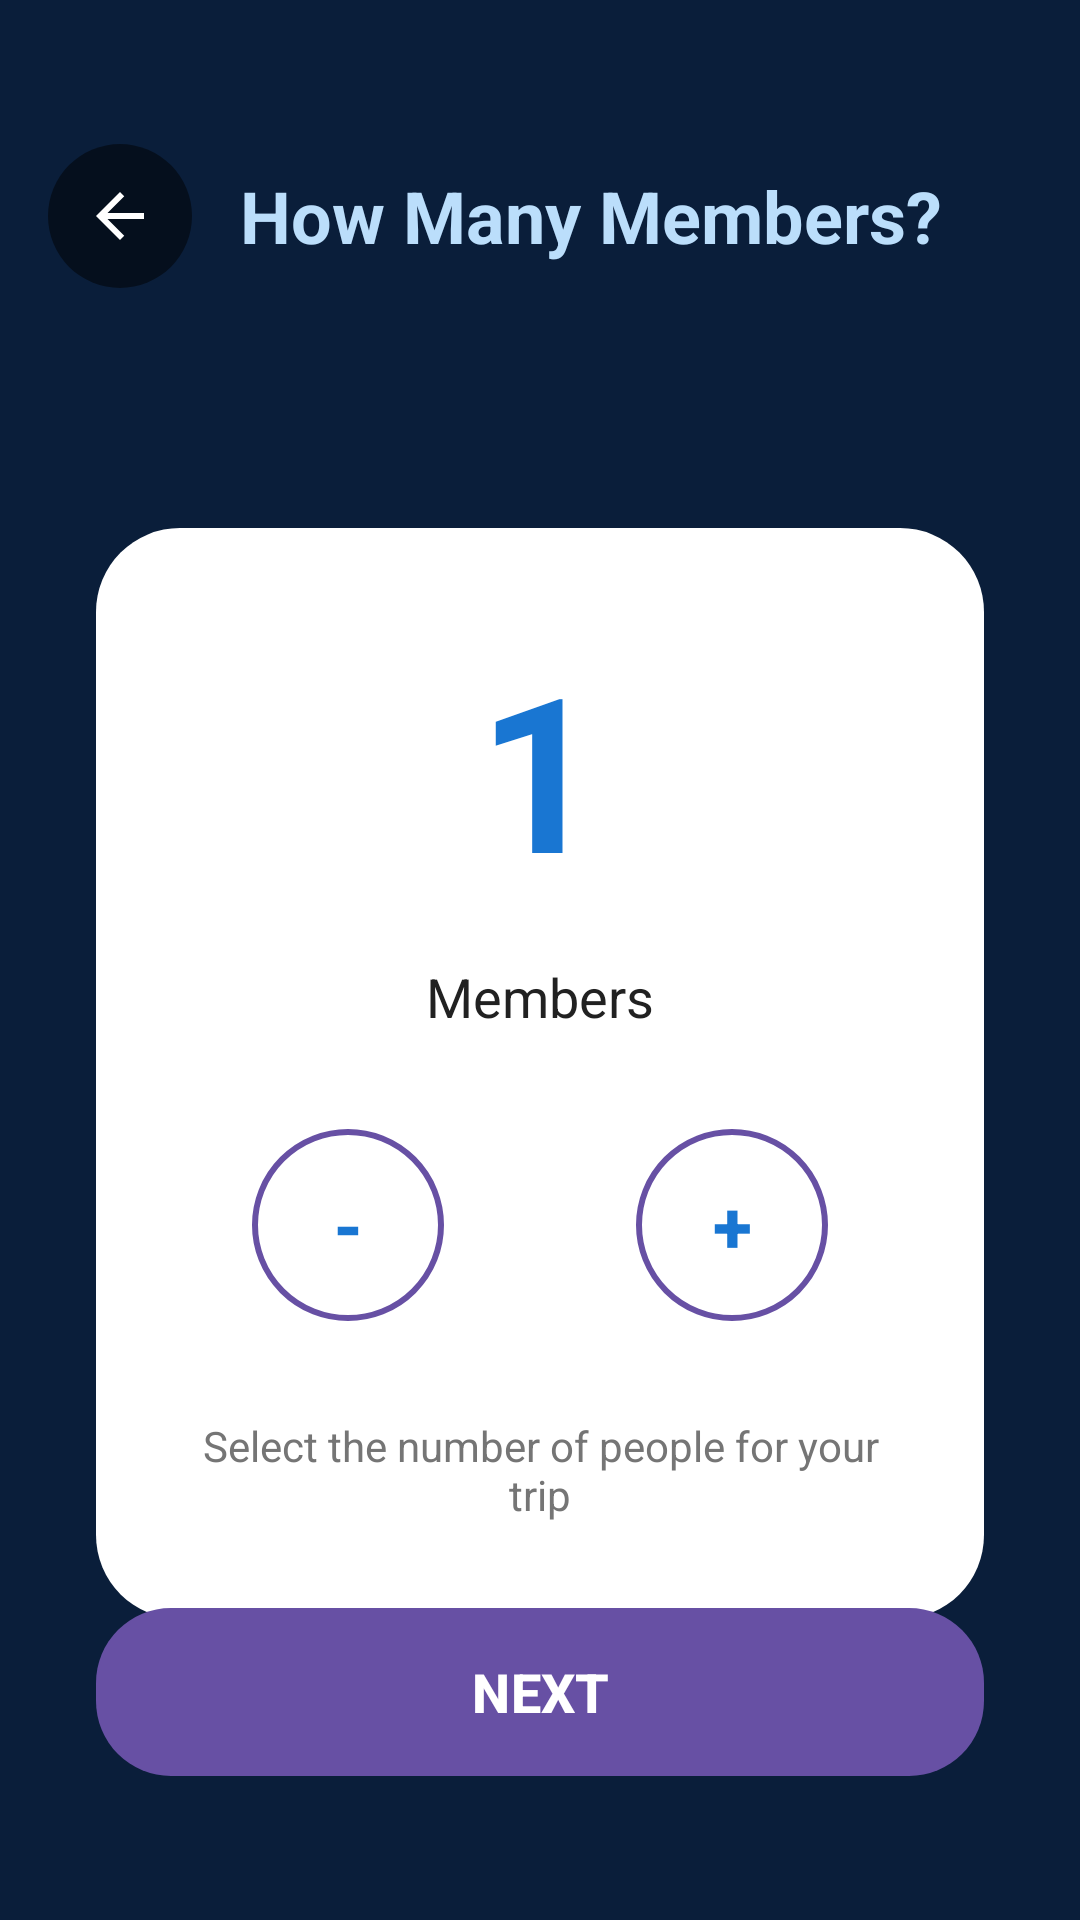

Named icons in this screenshot (1080×1920) and their centers, [x,y]:
Back button: [120,216]
